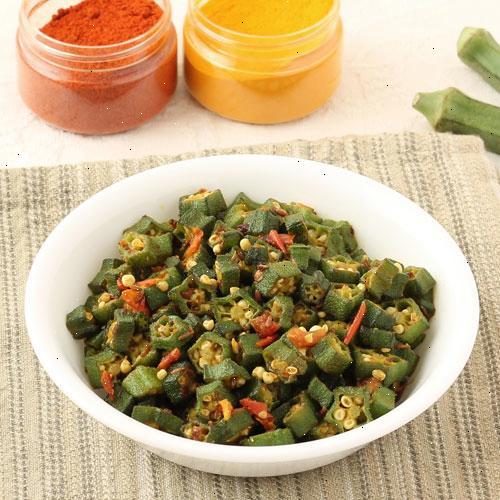bhindi: (95, 193, 421, 420)
